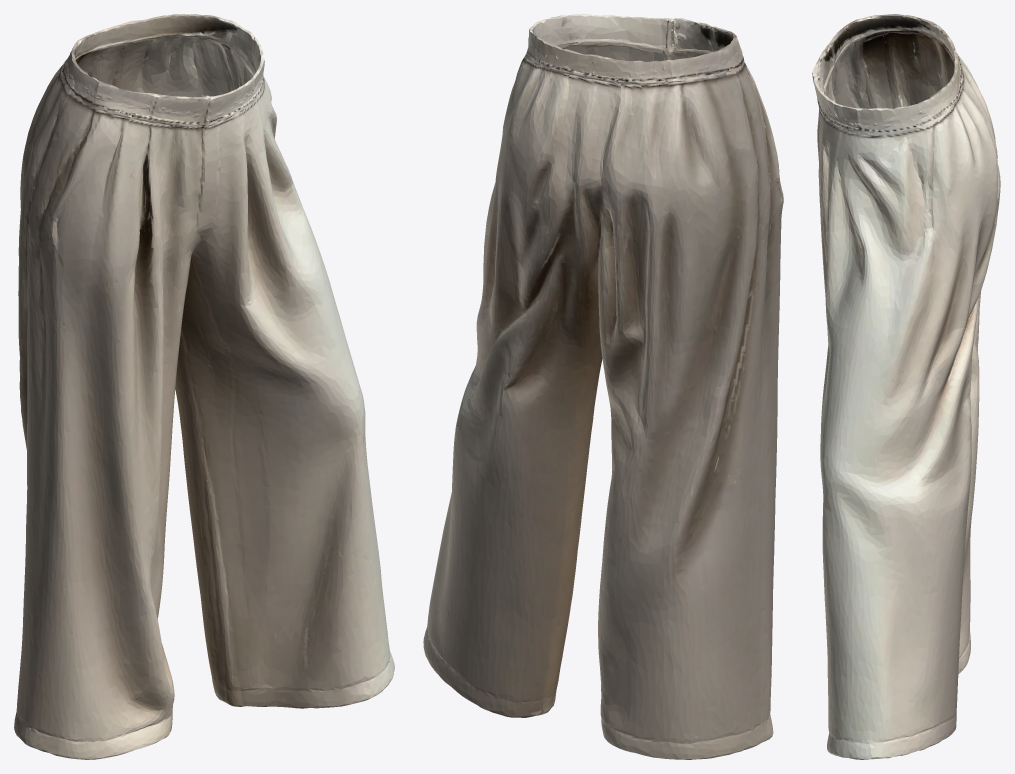
Rendered from plazo.glb.
The picture shows the model from 3 angles, left to right: view 1: azimuth 30°, elevation 25°; view 2: azimuth 150°, elevation 25°; view 3: azimuth 270°, elevation 25°; orthographic projection. The views are drawn at different scales.
Visible parts, largest first — view 1: world; view 2: world; view 3: world.
Part boxes in pixels (<box>): world: <box>14,14,394,759</box>; world: <box>423,14,783,759</box>; world: <box>812,14,1000,759</box>.
Bounding box in the file's own units: 1.07 × 1.99 × 0.5369.
Materials: 1 (1 with a texture image).
